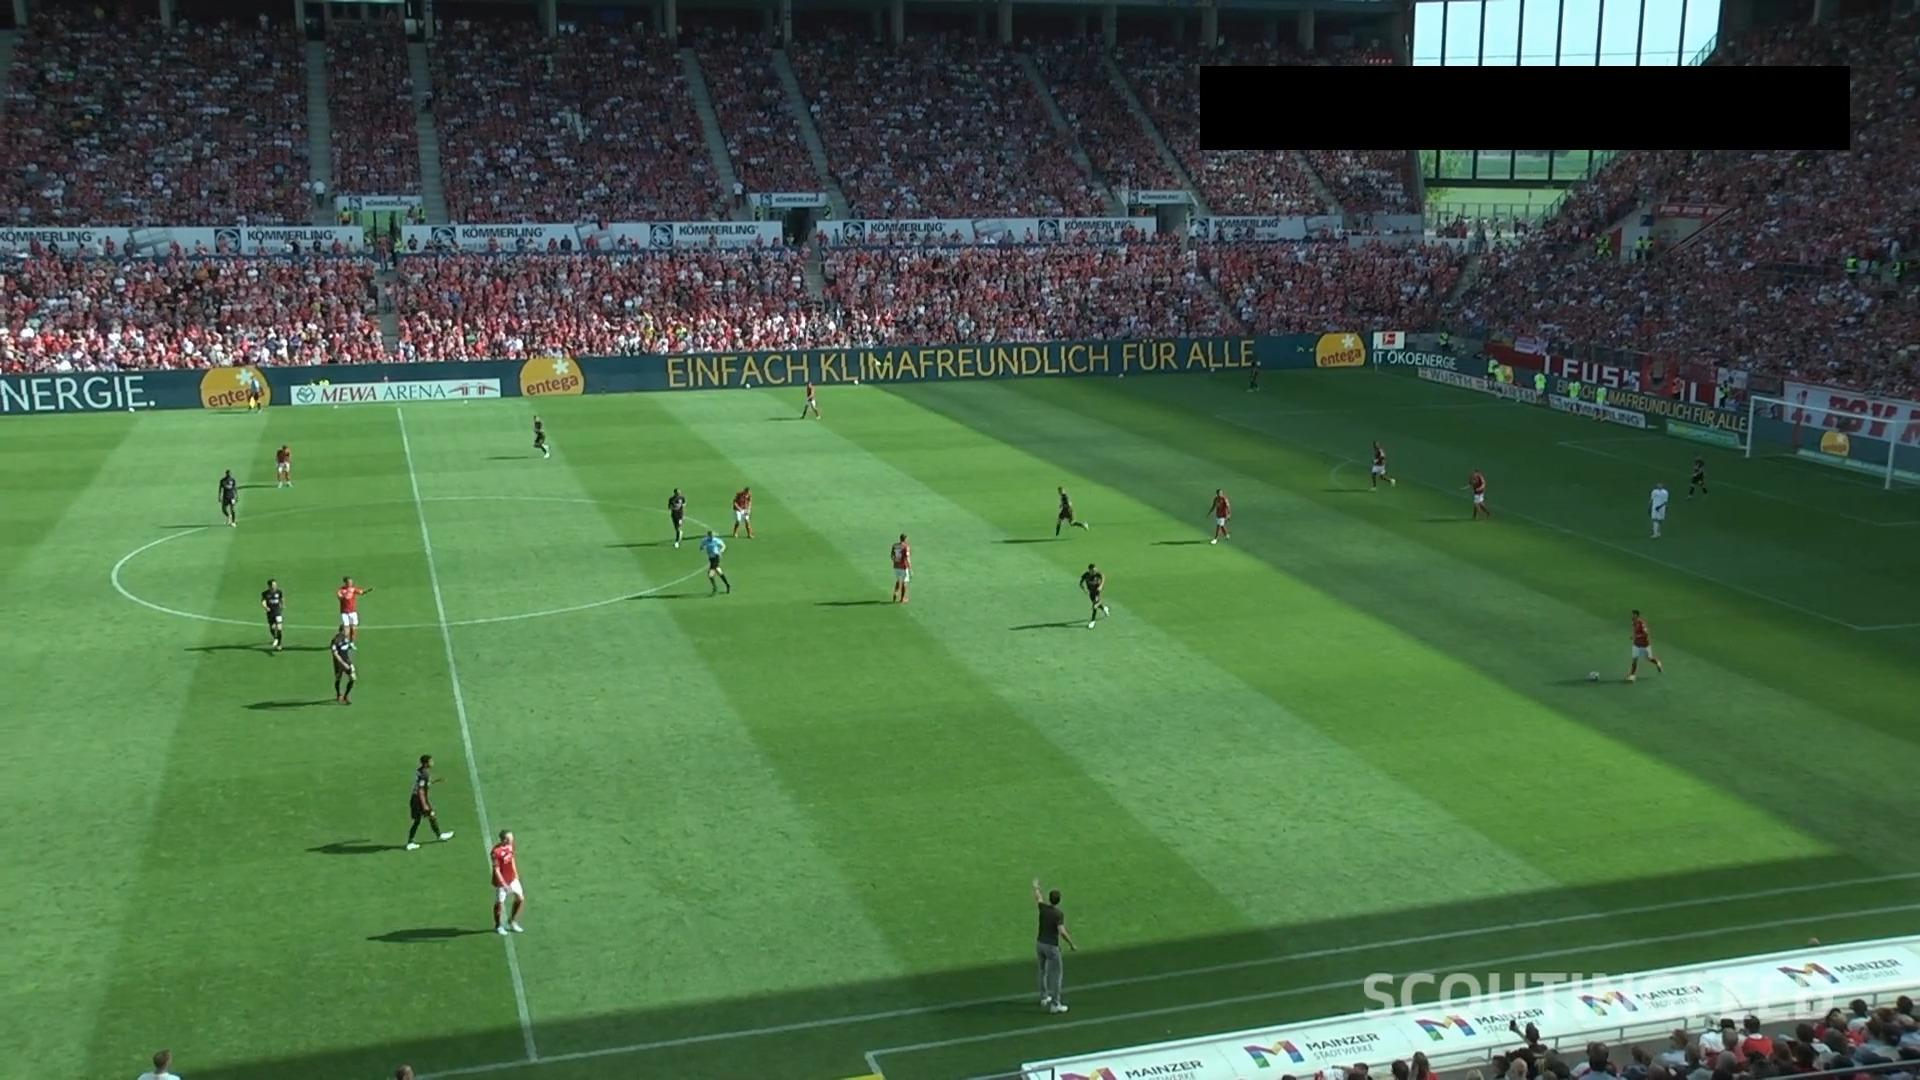ball: (1585, 671, 1600, 683)
